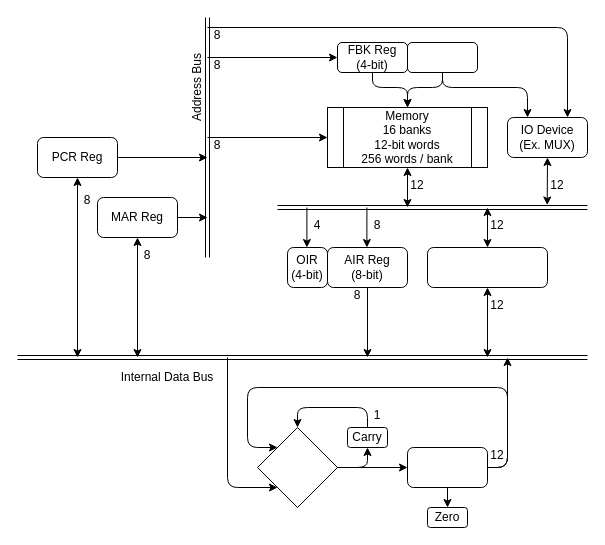
This 605x545 diagram has some shape labels left out. The shapes that lost their labels are listed below. From the top down, each one's centre as x and y in pixels, then its label:
pixel 442 57: EBK Reg (4-bit)
pixel 487 267: HCR Reg (12-bit)
pixel 297 467: ALU (12-bit)
pixel 447 467: ACR Reg (12-bit)
